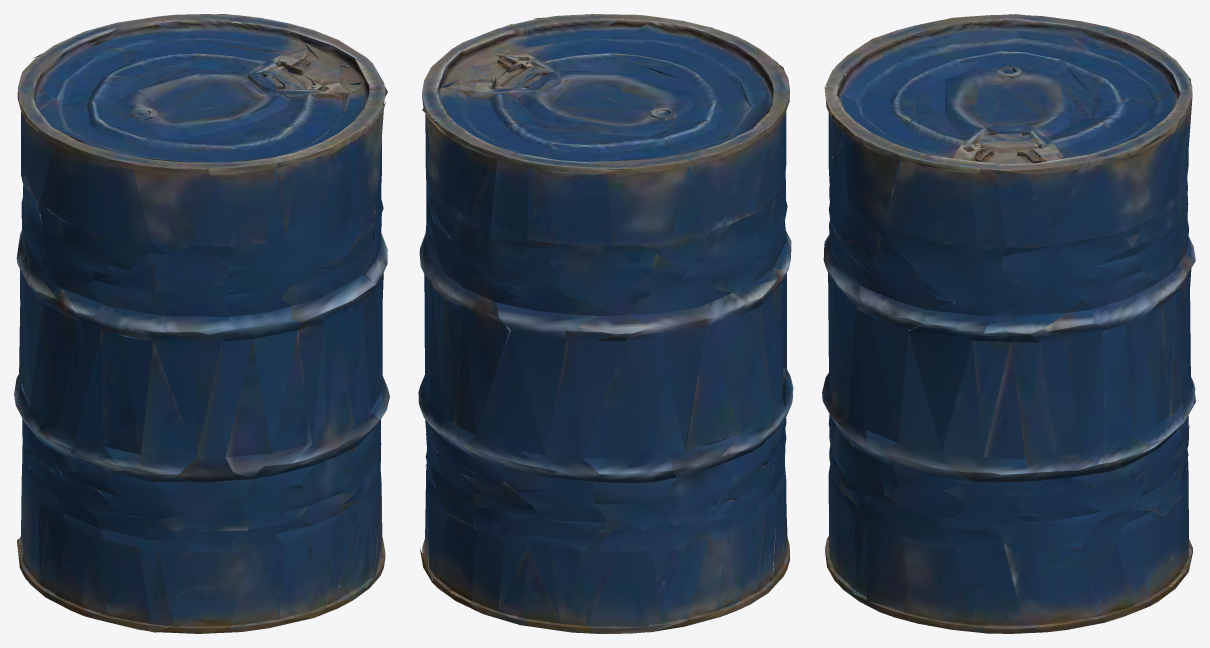
The model's file is barrel_blue.glb.
The picture shows the model from 3 angles, left to right: view 1: azimuth 30°, elevation 25°; view 2: azimuth 150°, elevation 25°; view 3: azimuth 270°, elevation 25°; orthographic projection.
Parts seen in each view (by area): view 1: Mesh_0; view 2: Mesh_0; view 3: Mesh_0.
Part boxes in pixels (box(x1,y1,x2,y2)): Mesh_0: box(14, 14, 389, 633); Mesh_0: box(418, 14, 793, 633); Mesh_0: box(822, 14, 1195, 633).
Bounding box in the file's own units: 1.38 × 1.9 × 1.38.
1 material, 1 textured.
